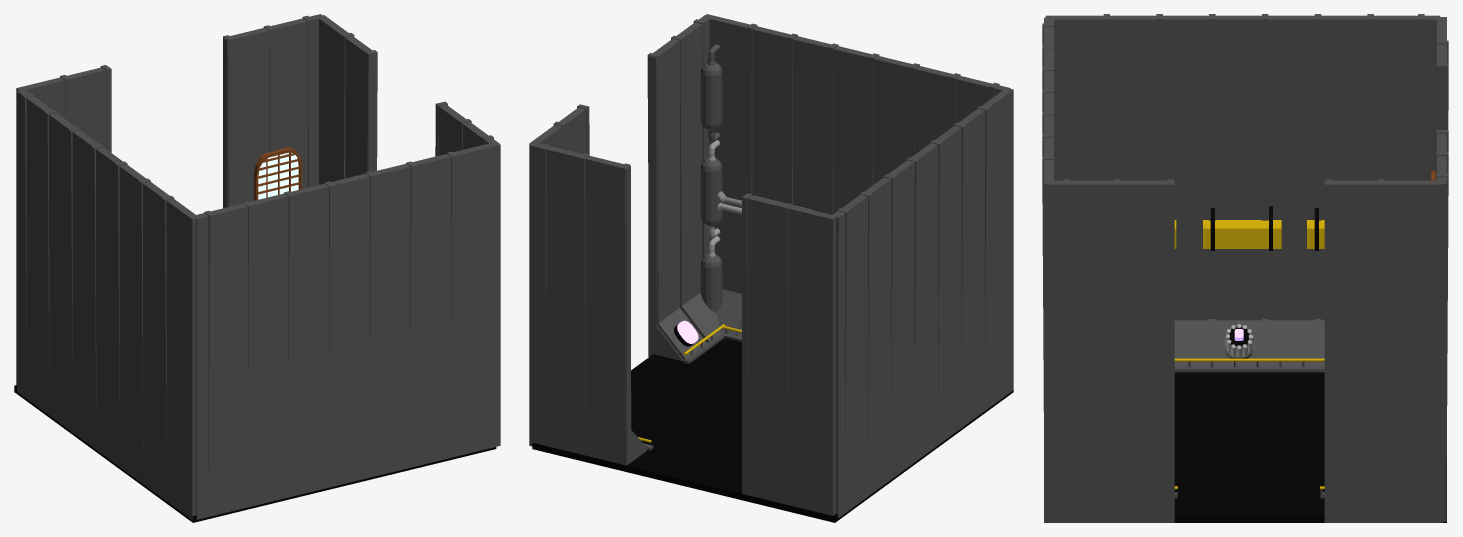
File: Room2 (2).fbx
3 views of the same model, side by side, from view 1: azimuth 30°, elevation 25°; view 2: azimuth 150°, elevation 25°; view 3: azimuth 270°, elevation 25° (orthographic). The views are drawn at different scales.
Visible parts, largest first — view 1: Wall2.002, Wall1.002, WalktroughWall1.003, WalktroughWall2.006, Room2; view 2: WalktroughWall1.003, Wall1.002, Wall2.002, WalktroughWall2.006, Room2; view 3: Wall1.002, WalktroughWall2.006, Room2, WalktroughWall1.003, Wall2.002.
Part boxes in pixels (box(x1,y1,x2,y2)): Wall2.002: box(193, 141, 500, 519); Wall1.002: box(16, 89, 198, 519); WalktroughWall1.003: box(16, 14, 324, 384); WalktroughWall2.006: box(319, 15, 499, 184); Room2: box(14, 385, 496, 522); WalktroughWall1.003: box(529, 142, 836, 515); Wall1.002: box(831, 88, 1013, 518); Wall2.002: box(700, 14, 1010, 342); WalktroughWall2.006: box(529, 15, 729, 363); Room2: box(532, 338, 1013, 522); Wall1.002: box(1045, 14, 1440, 372); WalktroughWall2.006: box(1048, 179, 1442, 522); Room2: box(1045, 372, 1446, 522); WalktroughWall1.003: box(1431, 17, 1448, 521); Wall2.002: box(1042, 17, 1055, 522).
Size of the model in its own units: 12143 by 11367 by 12218.
